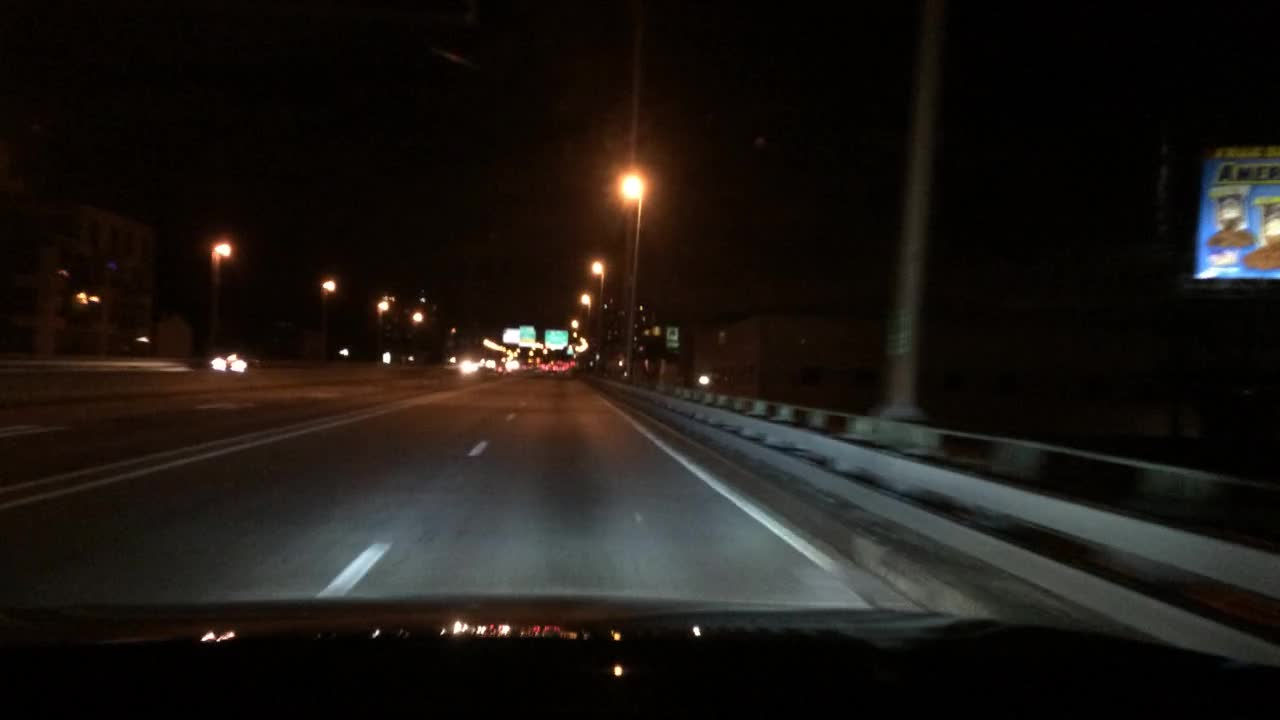car: (207, 348, 264, 375), (535, 349, 580, 381), (477, 357, 510, 381), (455, 357, 480, 373)
traffic sign: (544, 330, 567, 349), (518, 325, 535, 347), (666, 325, 678, 349)
